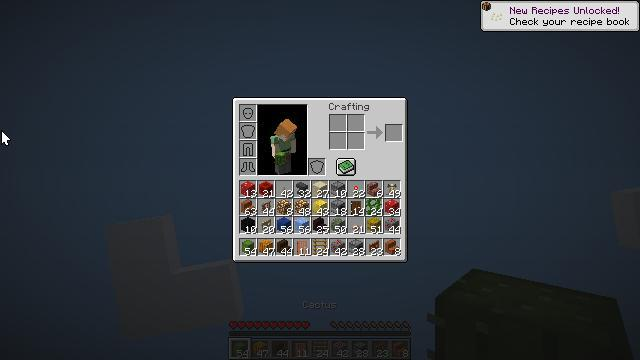cursor: (1, 130, 11, 146)
